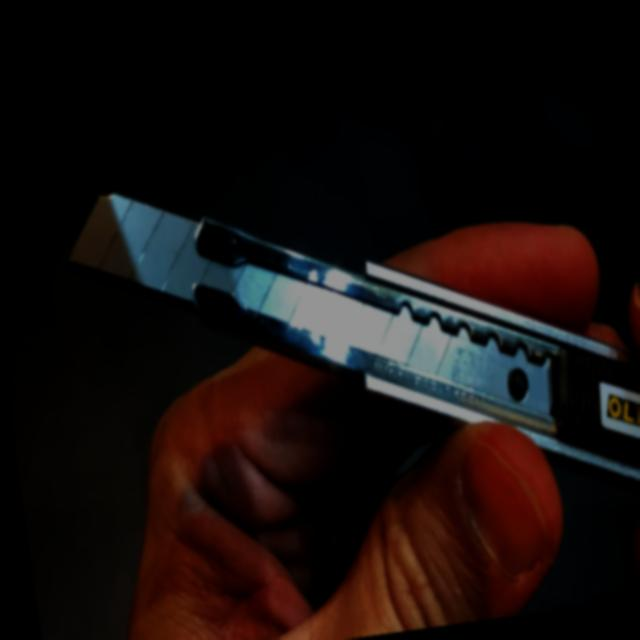cutter: (8, 40, 640, 640)
